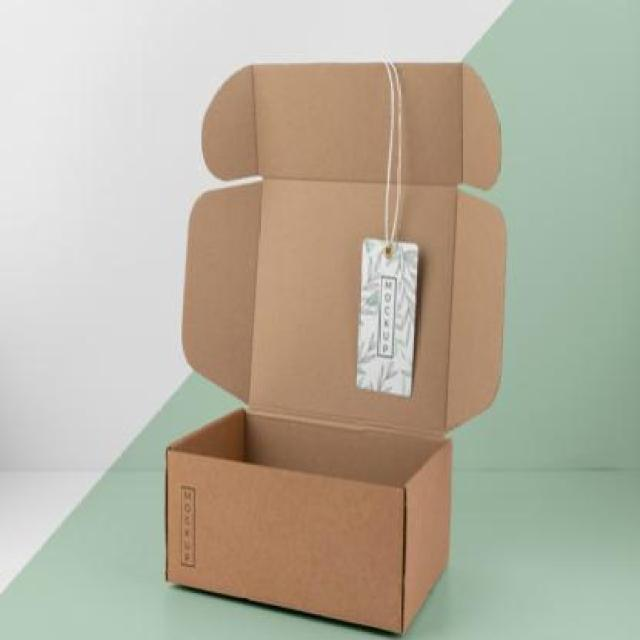box: (129, 58, 522, 640)
